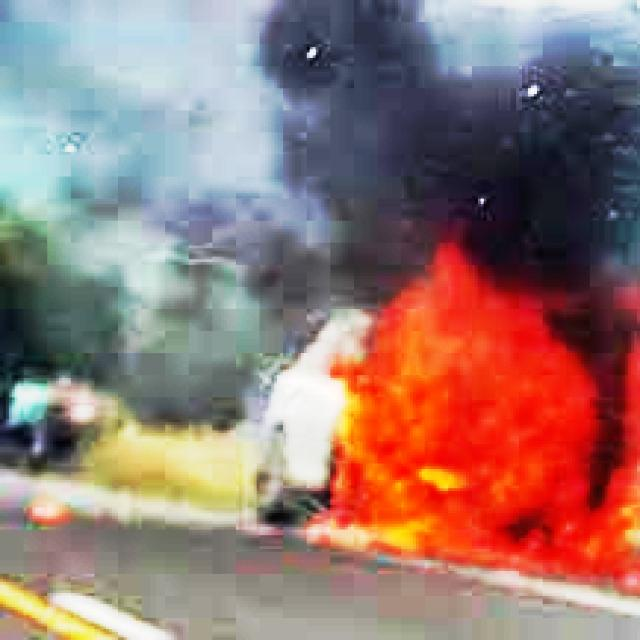api: (323, 255, 635, 564)
